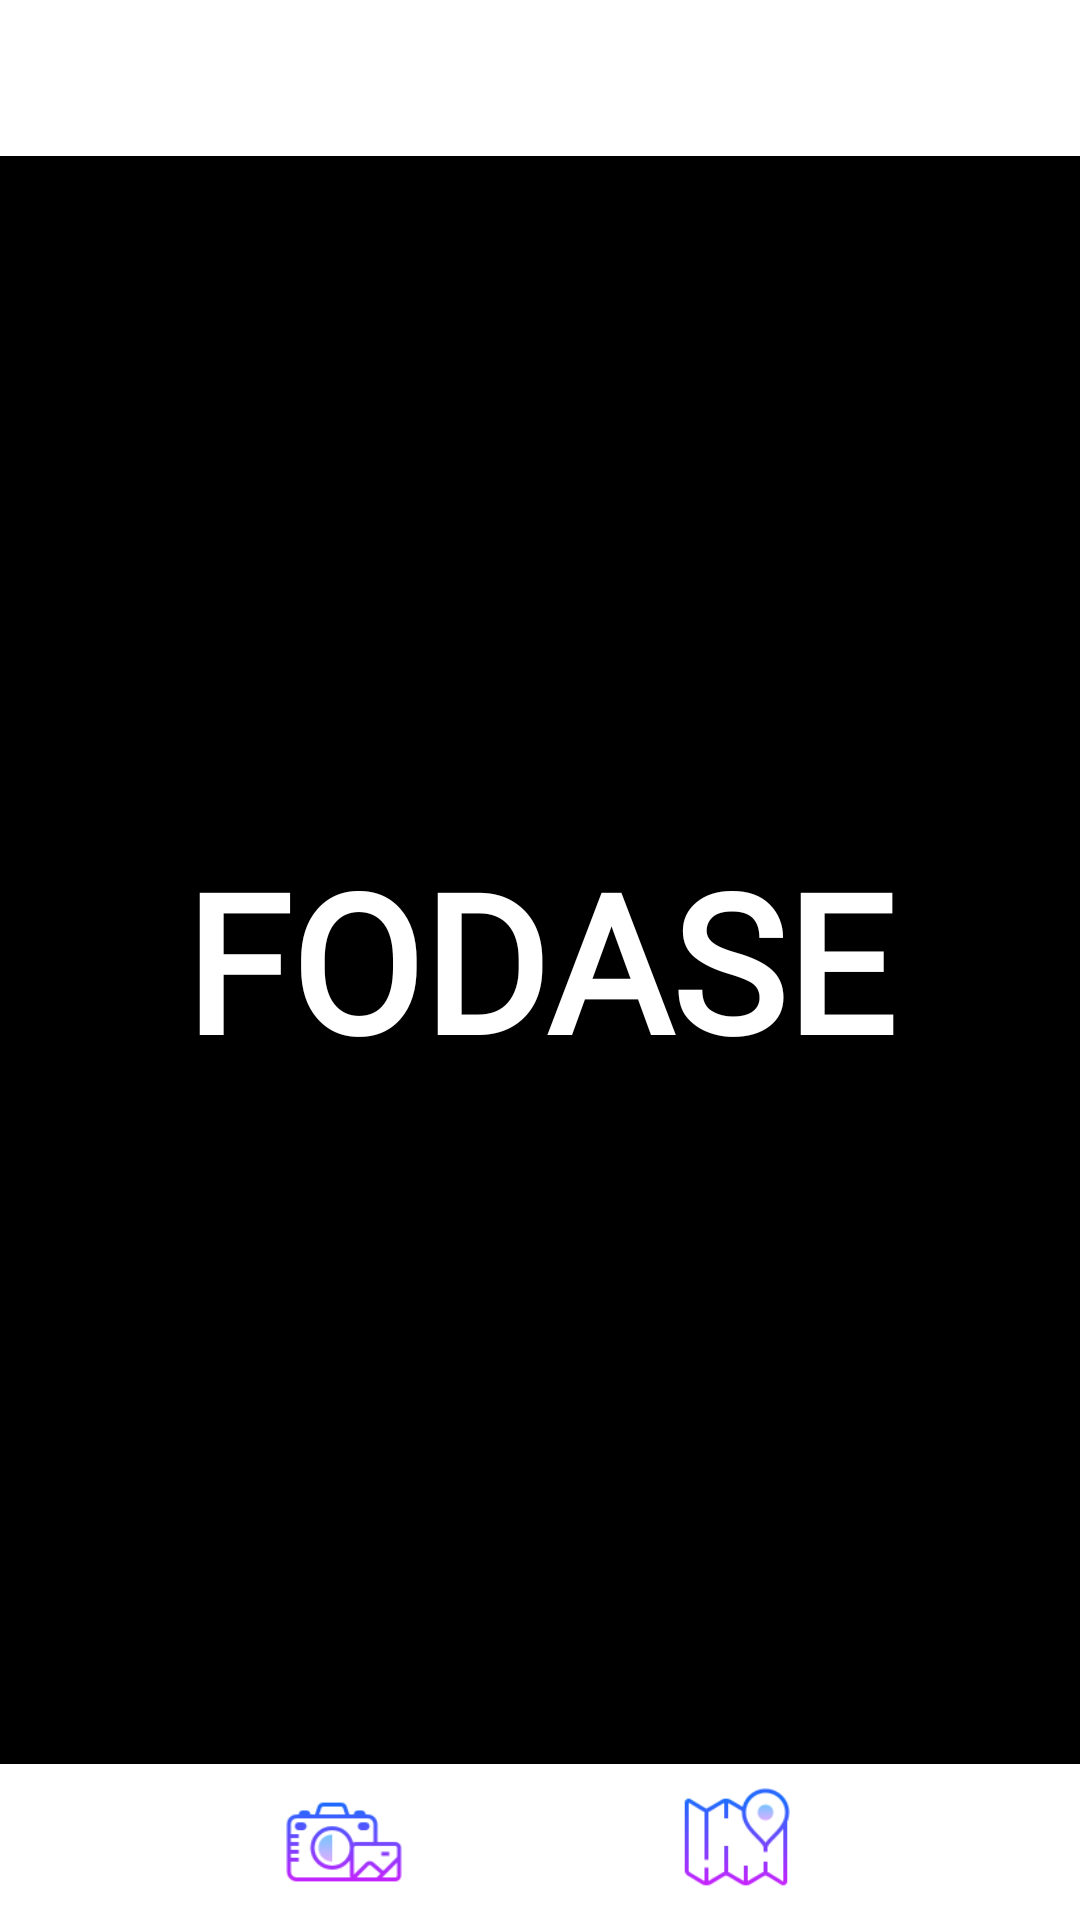

Icons on this 1080w x 1920h Android screen, each with the point to tap as (x,y):
camera nol: (344,1842)
map nol: (737,1837)
